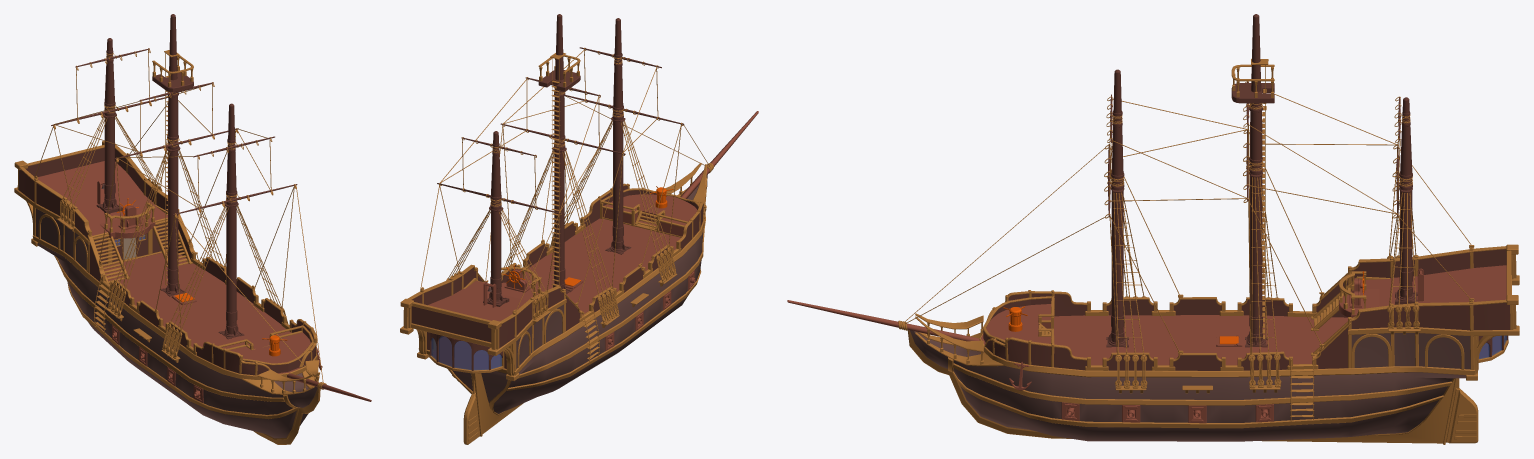
File: ship.fbx
The picture shows the model from 3 angles, left to right: view 1: azimuth 30°, elevation 25°; view 2: azimuth 150°, elevation 25°; view 3: azimuth 270°, elevation 25°; orthographic projection. The views are drawn at different scales.
Parts seen in each view (by area): view 1: planches_cordages, murs_mats, sol_trappe_gouvernail, coque; view 2: planches_cordages, murs_mats, sol_trappe_gouvernail, coque, vitre_fini; view 3: planches_cordages, coque, murs_mats, sol_trappe_gouvernail.
Part boxes in pixels (x1,y1,x2,y2): planches_cordages: (14,48,326,444); murs_mats: (19,14,315,375); sol_trappe_gouvernail: (38,161,371,403); coque: (36,208,317,438); planches_cordages: (400,47,713,444); murs_mats: (411,14,703,370); sol_trappe_gouvernail: (428,111,758,369); coque: (429,175,707,413); vitre_fini: (431,336,501,370); planches_cordages: (898,58,1519,444); coque: (910,330,1470,441); murs_mats: (983,14,1510,370); sol_trappe_gouvernail: (787,265,1506,423).
Bounding box in the file's own units: 1000 × 2783 × 4303.
